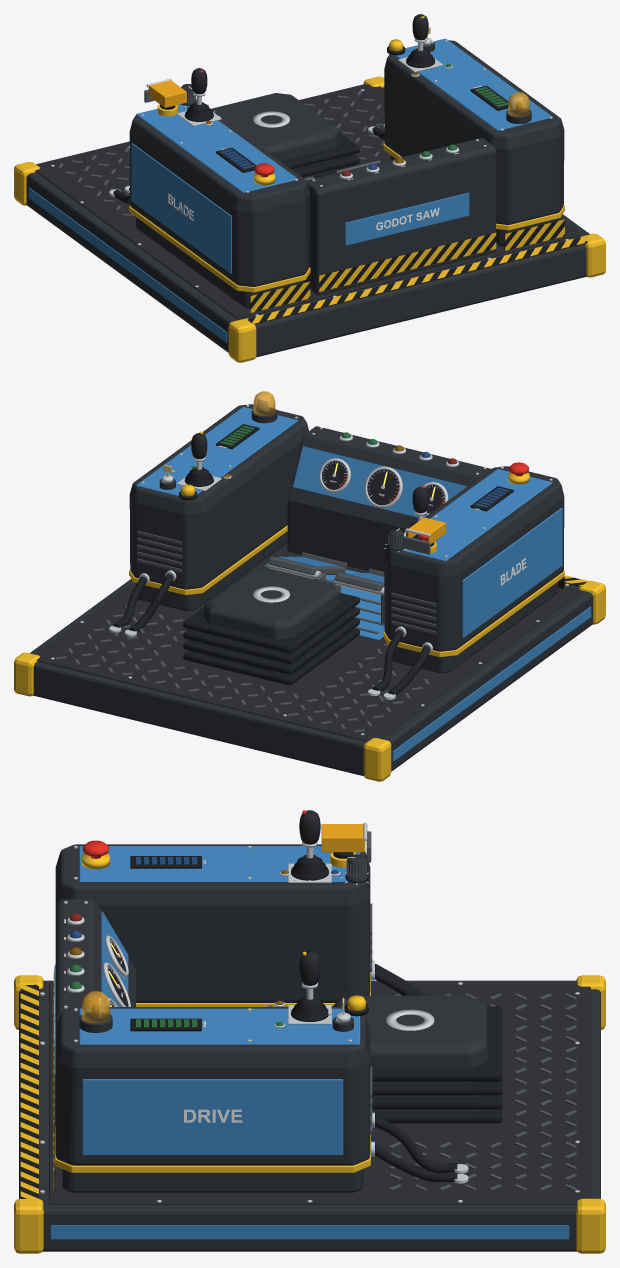
File: godot_console_v3.glb
3 views of the same model, one above another, from view 1: azimuth 30°, elevation 25°; view 2: azimuth 150°, elevation 25°; view 3: azimuth 270°, elevation 25° (orthographic). The views are drawn at different scales.
Parts seen in each view (by area): view 1: ConsoleV3_V3_ShellGraphite, ConsoleV3_V3_PanelBlue, ConsoleV3_V3_DeckMat, ConsoleV3_V3_TrimYellow, ConsoleV3_V3_StripeBlack, ConsoleV3_V3_Rubber, ConsoleV3_V3_DarkSteel, ConsoleV3_V3_Steel, OP_Guard_V3_GuardAmber, ConsoleV3_V3_Ink, OP_BeaconDome_V3_BeaconLens; view 2: ConsoleV3_V3_ShellGraphite, ConsoleV3_V3_DeckMat, ConsoleV3_V3_PanelBlue, ConsoleV3_V3_Rubber, ConsoleV3_V3_DarkSteel, ConsoleV3_V3_TrimYellow, ConsoleV3_V3_Steel, ConsoleV3_V3_StripeBlack, OP_Pedal_L_V3_DarkSteel, OP_Gauge_RPM_V3_GaugeFace, OP_Guard_V3_GuardAmber, OP_Gauge_Speed_V3_GaugeFace (+1 smaller); view 3: ConsoleV3_V3_ShellGraphite, ConsoleV3_V3_PanelBlue, ConsoleV3_V3_DeckMat, ConsoleV3_V3_TrimYellow, ConsoleV3_V3_Rubber, ConsoleV3_V3_DarkSteel, ConsoleV3_V3_StripeBlack, ConsoleV3_V3_Steel, OP_Guard_V3_GuardAmber, OP_BeaconDome_V3_BeaconLens, OP_Lever_R_V3_Rubber, OP_Lever_L_V3_Rubber (+3 smaller).
Boxes of the visible parts, x1,y1,x2,y2 form: ConsoleV3_V3_ShellGraphite: (26,40,589,357); ConsoleV3_V3_PanelBlue: (28,38,552,342); ConsoleV3_V3_DeckMat: (35,84,581,319); ConsoleV3_V3_TrimYellow: (14,76,605,362); ConsoleV3_V3_StripeBlack: (160,46,587,324); ConsoleV3_V3_Rubber: (113,126,384,203); ConsoleV3_V3_DarkSteel: (58,89,384,216); ConsoleV3_V3_Steel: (51,37,568,316); OP_Guard_V3_GuardAmber: (148,80,186,107); ConsoleV3_V3_Ink: (168,59,481,230); OP_BeaconDome_V3_BeaconLens: (508,92,529,116); ConsoleV3_V3_ShellGraphite: (30,404,593,776); ConsoleV3_V3_DeckMat: (36,543,581,741); ConsoleV3_V3_PanelBlue: (136,407,591,761); ConsoleV3_V3_Rubber: (113,573,430,695); ConsoleV3_V3_DarkSteel: (55,530,436,732); ConsoleV3_V3_TrimYellow: (14,472,605,781); ConsoleV3_V3_Steel: (51,404,568,735); ConsoleV3_V3_StripeBlack: (179,424,586,588); OP_Pedal_L_V3_DarkSteel: (268,552,347,574); OP_Gauge_RPM_V3_GaugeFace: (367,469,399,505); OP_Guard_V3_GuardAmber: (407,517,445,544); OP_Gauge_Speed_V3_GaugeFace: (322,461,347,489); ConsoleV3_V3_ShellGraphite: (19,844,600,1251); ConsoleV3_V3_PanelBlue: (50,846,569,1239); ConsoleV3_V3_DeckMat: (49,983,590,1204); ConsoleV3_V3_TrimYellow: (14,852,605,1253); ConsoleV3_V3_Rubber: (331,963,502,1181); ConsoleV3_V3_DarkSteel: (366,831,576,1190); ConsoleV3_V3_StripeBlack: (20,852,368,1198); ConsoleV3_V3_Steel: (40,846,579,1202); OP_Guard_V3_GuardAmber: (321,824,365,852); OP_BeaconDome_V3_BeaconLens: (82,991,109,1023); OP_Lever_R_V3_Rubber: (291,854,328,880); OP_Lever_L_V3_Rubber: (291,996,328,1021).
Bounding box in the file's own units: 1.67 × 0.8464 × 1.77.
